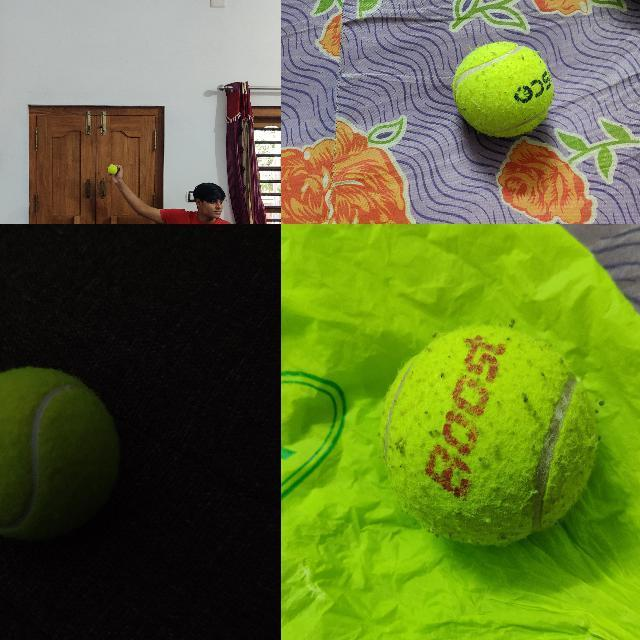tennis-ball: (378, 325, 600, 544), (0, 367, 121, 541), (453, 41, 554, 137), (107, 164, 117, 174)
